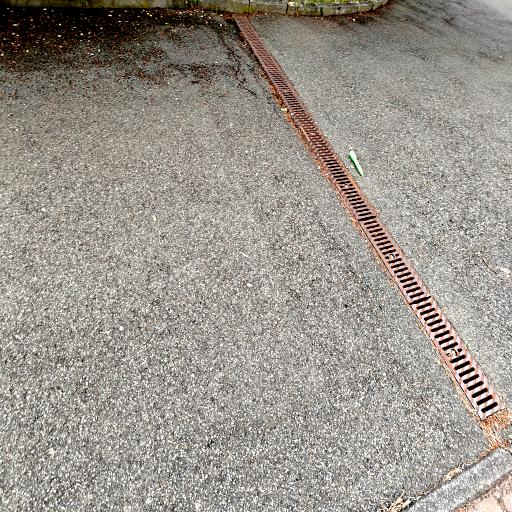Probe-Detection: (349, 150, 364, 176)
